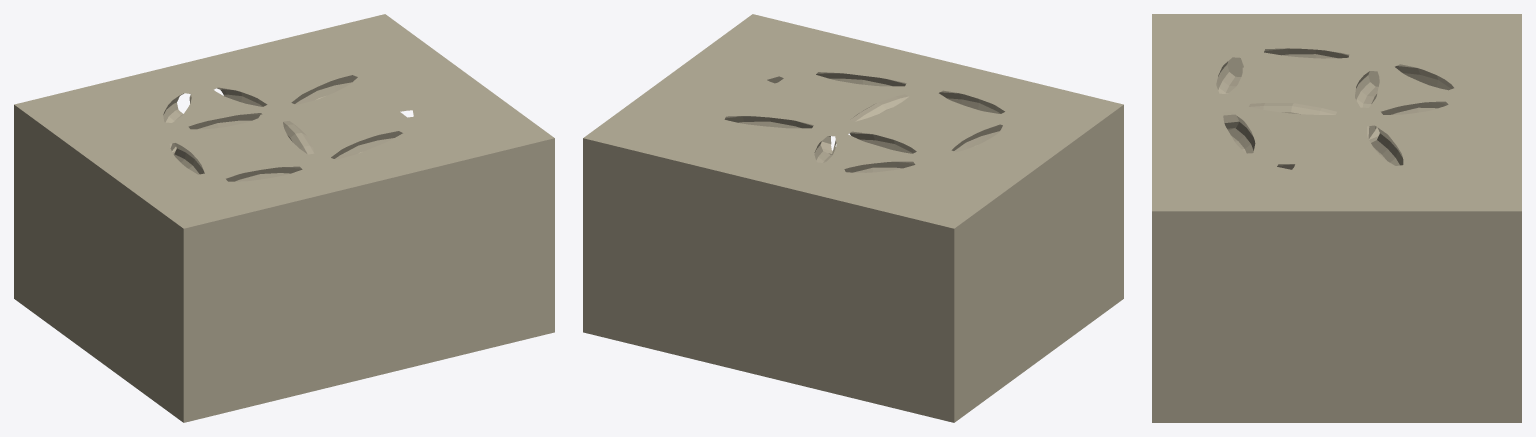
File: entobia-sponge-boring-network.glb
The picture shows the model from 3 angles, left to right: view 1: azimuth 30°, elevation 25°; view 2: azimuth 150°, elevation 25°; view 3: azimuth 270°, elevation 25°; orthographic projection. The views are drawn at different scales.
Visible parts, largest first — view 1: carbonate-section-with-true-interconnected-chamber-and-galle; view 2: carbonate-section-with-true-interconnected-chamber-and-galle; view 3: carbonate-section-with-true-interconnected-chamber-and-galle.
Boxes of the visible parts, x1=… form: carbonate-section-with-true-interconnected-chamber-and-galle: x1=14, y1=14, x2=554, y2=422; carbonate-section-with-true-interconnected-chamber-and-galle: x1=583, y1=14, x2=1123, y2=422; carbonate-section-with-true-interconnected-chamber-and-galle: x1=1152, y1=14, x2=1521, y2=422.
Bounding box in the file's own units: 0.24 × 0.1227 × 0.19.
